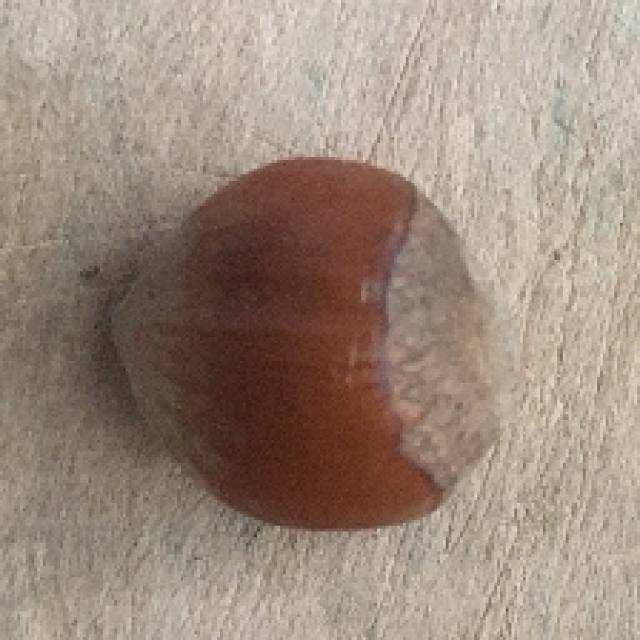qualityHazelnut: (104, 146, 512, 542)
